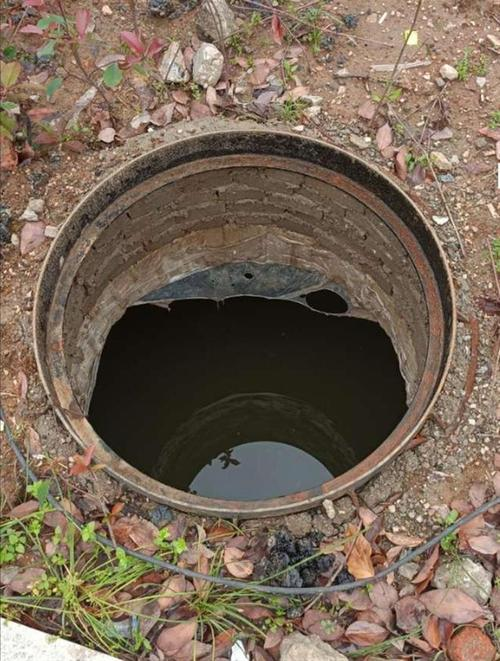lose: (23, 114, 465, 522)
